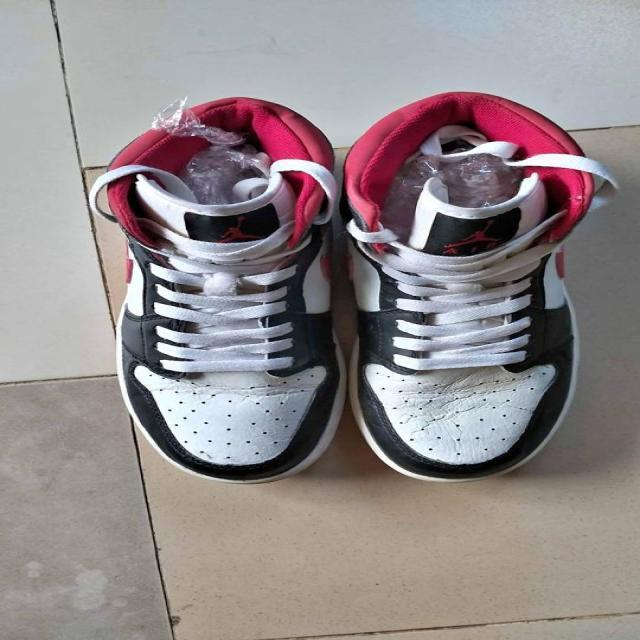nike fake jordan 1: (328, 88, 608, 484), (94, 98, 350, 484)
